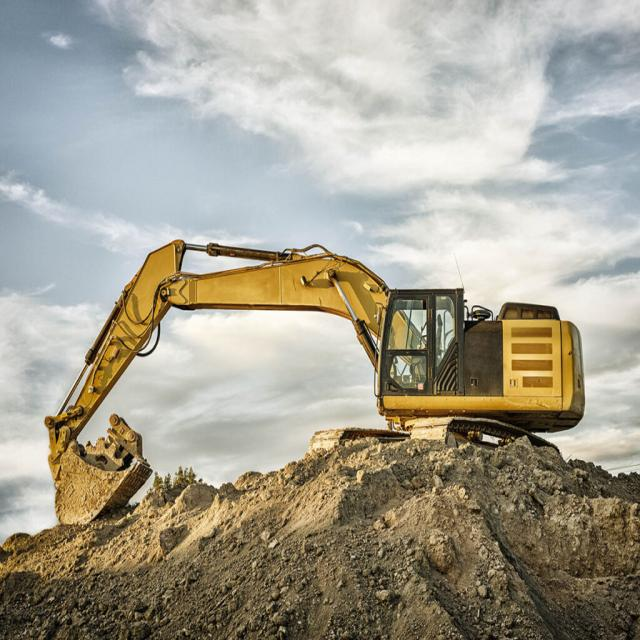excavator: (42, 237, 588, 527)
